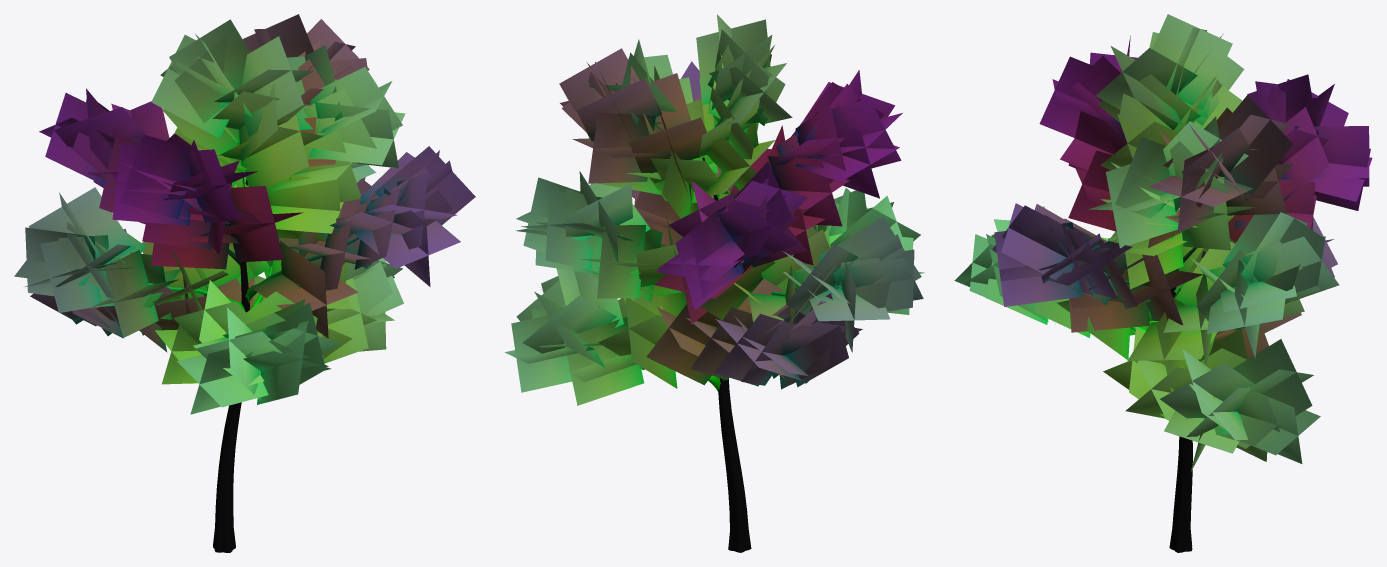
Rendered from URP_P3_Tree_2_LOD_1.fbx.
3 views of the same model, side by side, from view 1: azimuth 30°, elevation 25°; view 2: azimuth 150°, elevation 25°; view 3: azimuth 270°, elevation 25° (orthographic).
Parts seen in each view (by area): view 1: Tree_2_LOD_1; view 2: Tree_2_LOD_1; view 3: Tree_2_LOD_1.
Boxes of the visible parts, <box> form: Tree_2_LOD_1: <box>14,14,475,552</box>; Tree_2_LOD_1: <box>505,14,924,552</box>; Tree_2_LOD_1: <box>954,14,1372,552</box>.
Bounding box in the file's own units: 641 × 829 × 597.
